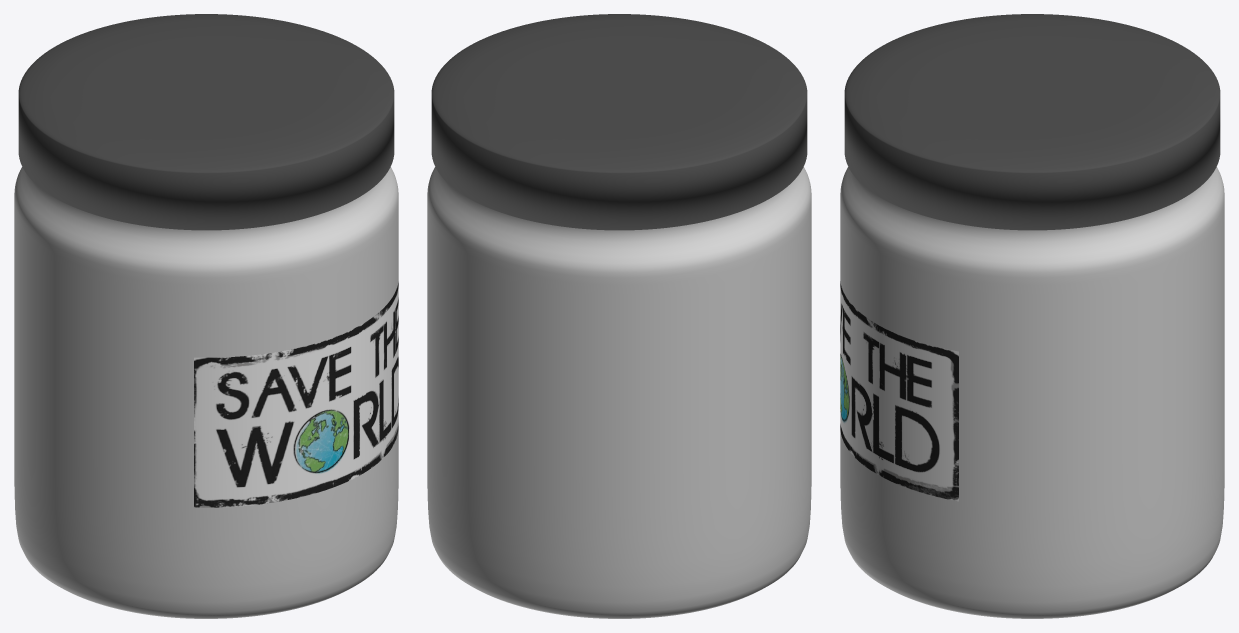
Rendered from JarOfWeed.fbx.
3 views of the same model, side by side, from view 1: azimuth 30°, elevation 25°; view 2: azimuth 150°, elevation 25°; view 3: azimuth 270°, elevation 25° (orthographic).
Parts seen in each view (by area): view 1: GlassJar, Lid; view 2: GlassJar, Lid; view 3: GlassJar, Lid.
Part boxes in pixels (x1,y1,x2,y2): GlassJar: [14, 167, 398, 618]; Lid: [18, 14, 394, 230]; GlassJar: [427, 167, 811, 618]; Lid: [431, 14, 807, 230]; GlassJar: [840, 167, 1224, 618]; Lid: [844, 14, 1220, 230].
Bounding box in the file's own units: 199 × 262 × 199.
